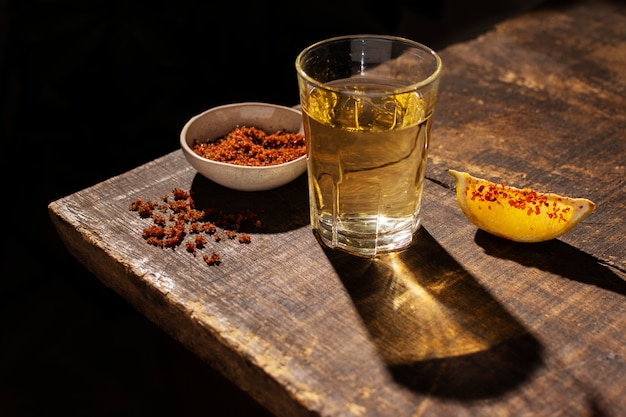alcohol: (292, 33, 442, 254)
